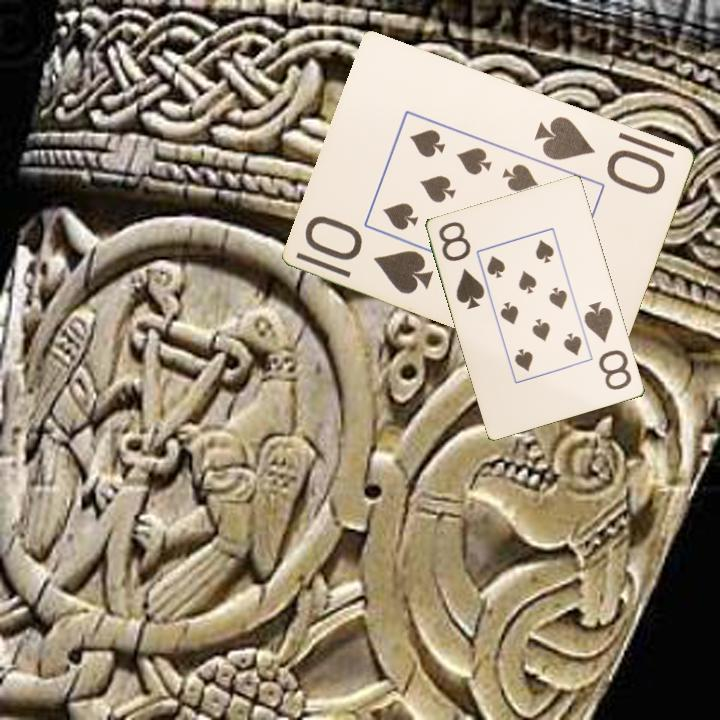10s: (531, 112, 670, 198), (301, 211, 438, 297)
8s: (581, 298, 635, 393), (435, 218, 488, 313)
